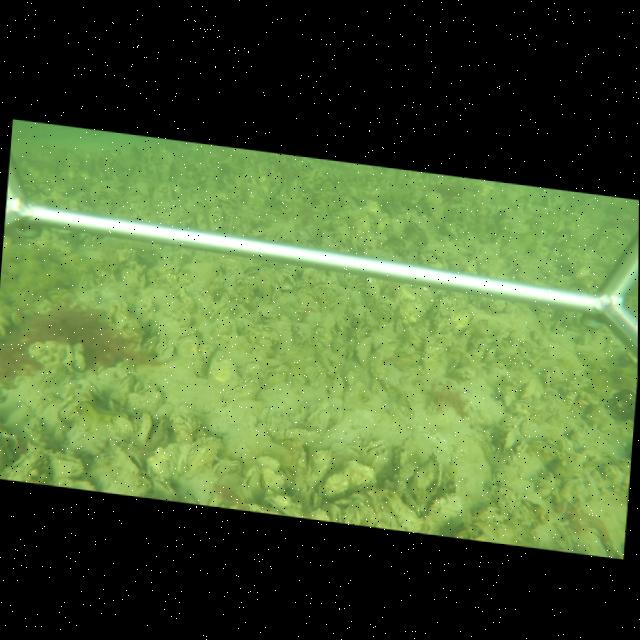Oyster-Closed: (322, 457, 378, 500), (410, 454, 442, 508), (185, 435, 221, 479), (0, 445, 46, 475), (49, 450, 84, 481), (223, 376, 259, 405), (239, 461, 263, 504), (354, 335, 374, 368), (133, 411, 151, 445), (175, 333, 200, 355), (151, 477, 177, 497), (329, 346, 347, 374)
Oyster-Indeterminate: (328, 373, 345, 396)
Oyster-Open: (111, 443, 144, 473)
